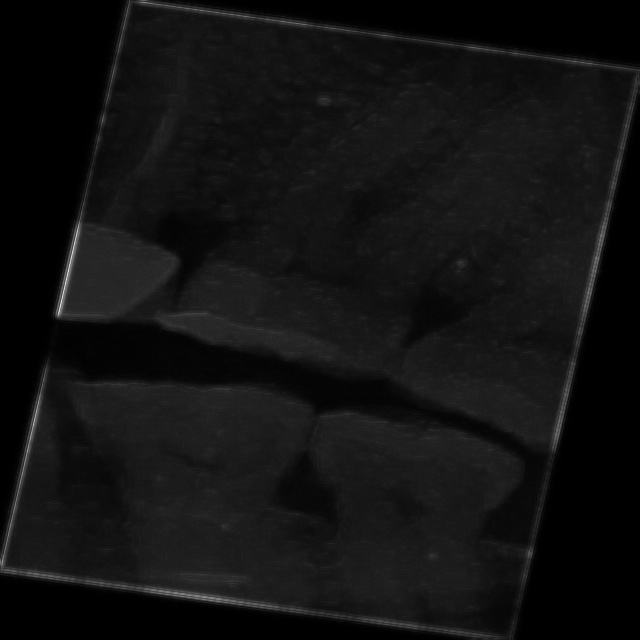Class 1- complete endodontic treatment: (53, 0, 249, 355)
cavity: (148, 40, 544, 418)
